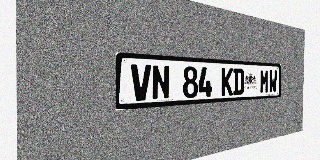4: (198, 67, 212, 97)
8: (183, 66, 198, 98)
D: (233, 68, 244, 95)
K: (221, 68, 233, 96)
M: (260, 69, 269, 94)
N: (152, 65, 170, 100)
V: (131, 64, 151, 101)
W: (269, 70, 277, 93)
